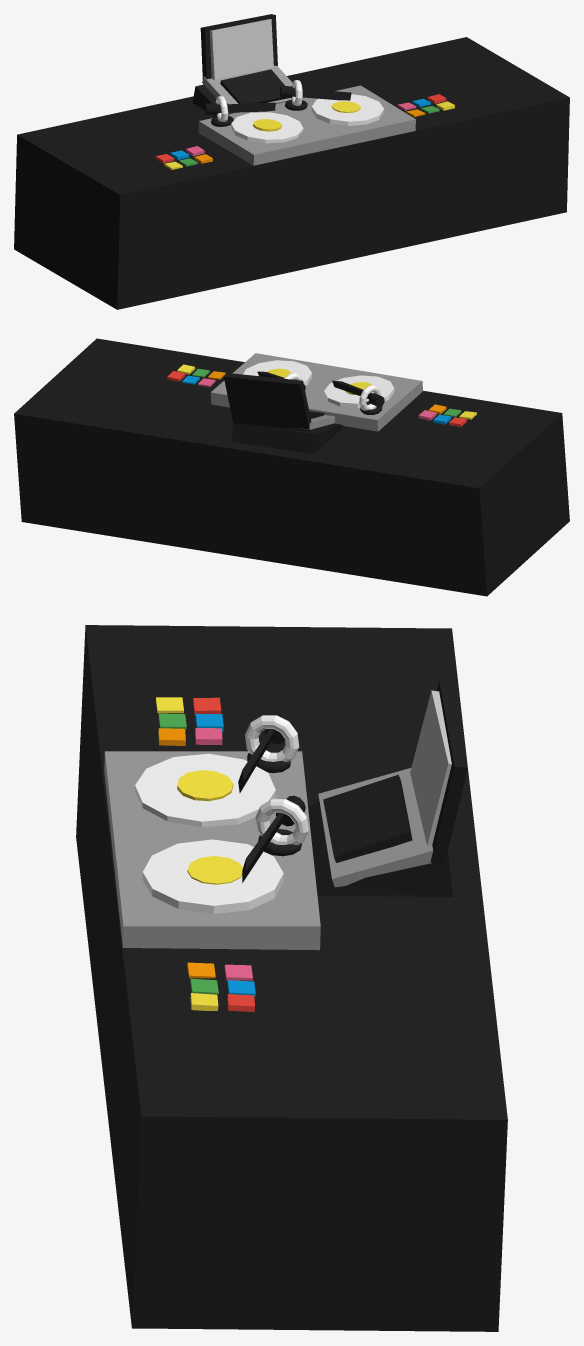
The picture shows the model from 3 angles, top to bottom: view 1: azimuth 30°, elevation 25°; view 2: azimuth 150°, elevation 25°; view 3: azimuth 270°, elevation 25°; orthographic projection. The views are drawn at different scales.
Parts seen in each view (by area): view 1: mesh_1153846815, group_175911543, mesh_2026185974, mesh_1524450156, mesh_1336536118, mesh_819752303, mesh_1838701961; view 2: mesh_1153846815, group_175911543, mesh_1336536118, mesh_1838701961; view 3: mesh_1153846815, group_175911543, mesh_1524450156, mesh_1838701961, mesh_819752303, mesh_2026185974, mesh_1336536118.
Boxes of the visible parts, left/top/right/bottom form: mesh_1153846815: left=14, top=37, right=569, bottom=309; group_175911543: left=198, top=80, right=415, bottom=165; mesh_2026185974: left=209, top=19, right=273, bottom=79; mesh_1524450156: left=220, top=69, right=288, bottom=103; mesh_1336536118: left=200, top=14, right=277, bottom=84; mesh_819752303: left=202, top=65, right=304, bottom=113; mesh_1838701961: left=192, top=84, right=229, bottom=116; mesh_1153846815: left=14, top=338, right=569, bottom=596; group_175911543: left=210, top=353, right=422, bottom=431; mesh_1336536118: left=224, top=373, right=311, bottom=431; mesh_1838701961: left=231, top=423, right=343, bottom=454; mesh_1153846815: left=76, top=625, right=507, bottom=1331; group_175911543: left=104, top=714, right=320, bottom=950; mesh_1524450156: left=323, top=774, right=412, bottom=862; mesh_1838701961: left=308, top=801, right=452, bottom=897; mesh_819752303: left=318, top=768, right=433, bottom=887; mesh_2026185974: left=410, top=690, right=451, bottom=845; mesh_1336536118: left=430, top=681, right=467, bottom=864.
Size of the model in its own units: 76.1 by 30.52 by 30.56.
